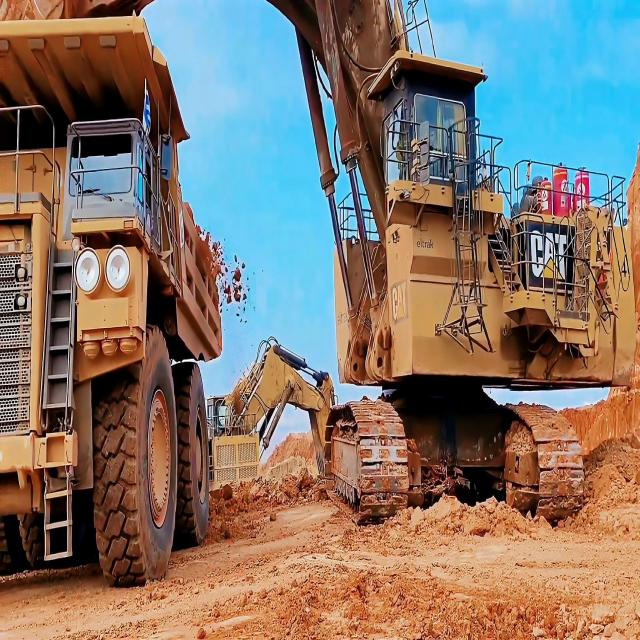dump_truck: (1, 11, 235, 597)
excavator: (242, 0, 640, 538), (200, 308, 340, 540)
